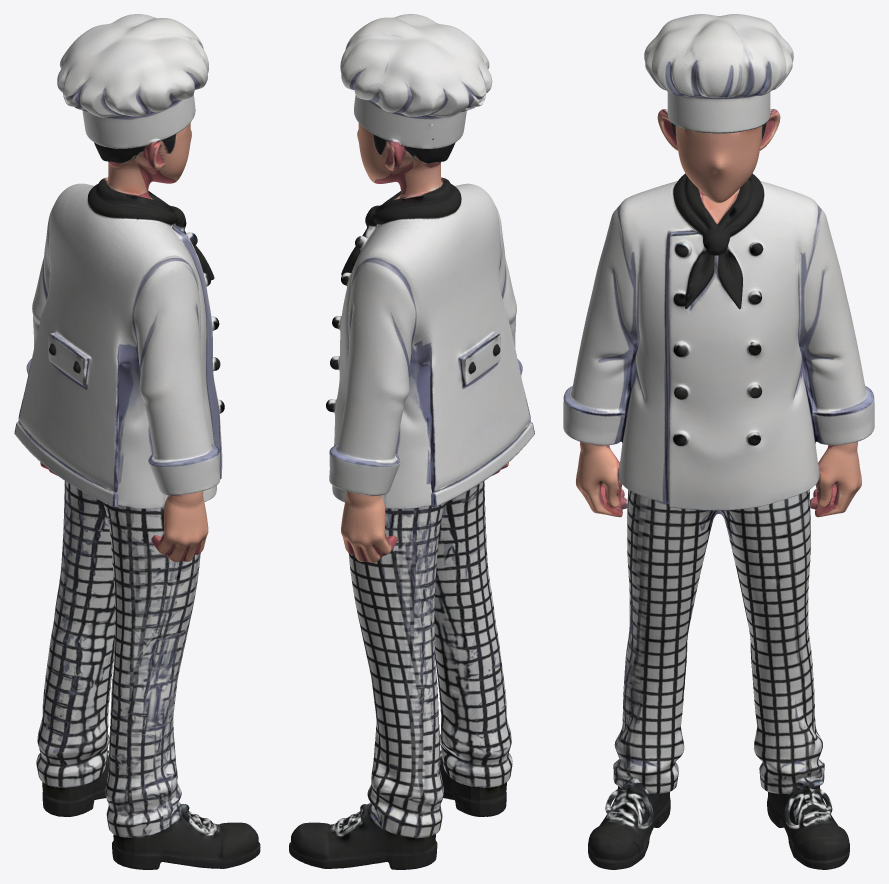
Rendered from chef+character+3d+model.glb.
3 views of the same model, side by side, from view 1: azimuth 30°, elevation 25°; view 2: azimuth 150°, elevation 25°; view 3: azimuth 270°, elevation 25° (orthographic). The views are drawn at different scales.
Parts seen in each view (by area): view 1: tripo_node_9592b8e5-de10-44bf-98b8-7cb1186e2d36; view 2: tripo_node_9592b8e5-de10-44bf-98b8-7cb1186e2d36; view 3: tripo_node_9592b8e5-de10-44bf-98b8-7cb1186e2d36.
Boxes of the visible parts, <box> form: tripo_node_9592b8e5-de10-44bf-98b8-7cb1186e2d36: <box>14,14,260,869</box>; tripo_node_9592b8e5-de10-44bf-98b8-7cb1186e2d36: <box>289,14,534,869</box>; tripo_node_9592b8e5-de10-44bf-98b8-7cb1186e2d36: <box>563,14,874,869</box>.
Bounding box in the file's own units: 0.197 × 1 × 0.3446.
1 material, 1 textured.
